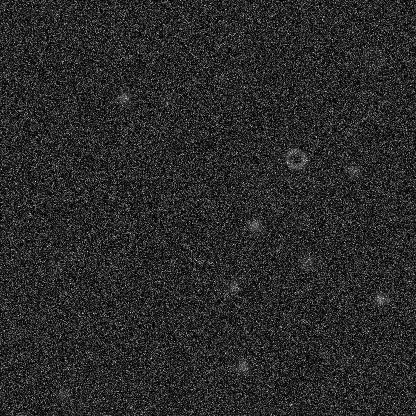Ring: (283, 146, 307, 170), (47, 246, 71, 270), (359, 44, 383, 68)
Spot: (107, 27, 123, 43), (346, 162, 362, 178), (246, 217, 262, 233), (299, 253, 315, 269), (234, 358, 250, 374), (56, 386, 72, 402), (372, 291, 388, 307), (116, 88, 132, 104), (158, 89, 174, 105), (297, 212, 313, 228), (75, 382, 91, 398), (225, 278, 241, 294)
